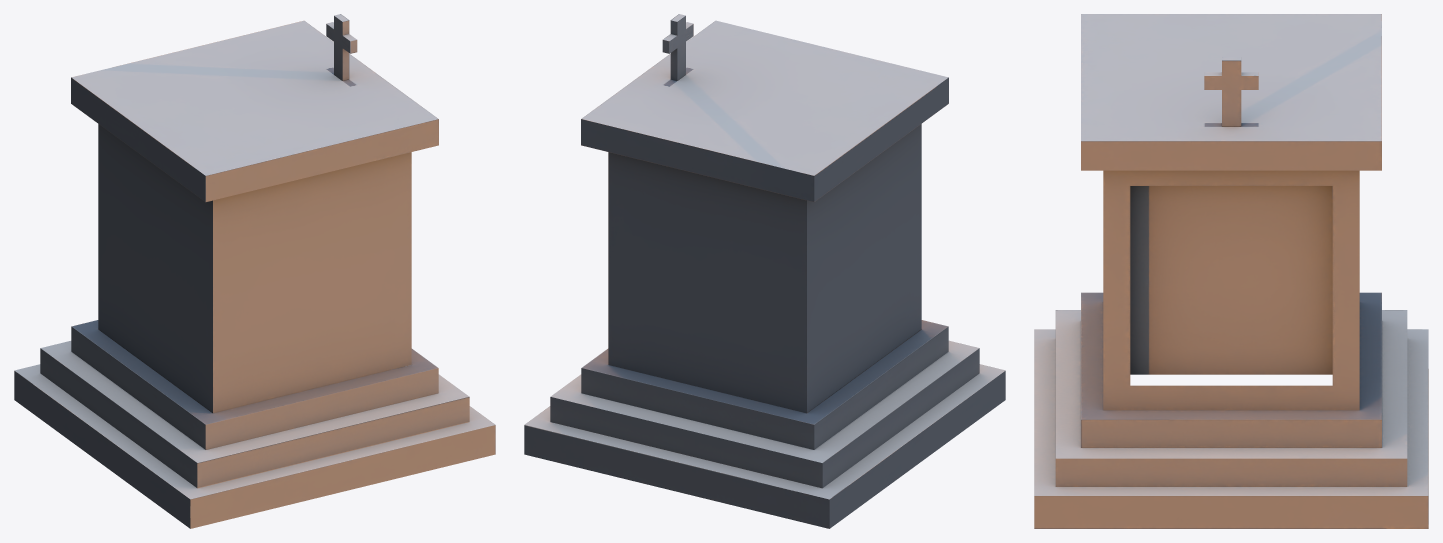
File: 04mid.glb
The picture shows the model from 3 angles, left to right: view 1: azimuth 30°, elevation 25°; view 2: azimuth 150°, elevation 25°; view 3: azimuth 270°, elevation 25°; orthographic projection. The views are drawn at different scales.
Visible parts, largest first — view 1: Tombe 4 mid; view 2: Tombe 4 mid; view 3: Tombe 4 mid.
Part boxes in pixels (bbox=[...]): Tombe 4 mid: bbox=[14, 14, 495, 528]; Tombe 4 mid: bbox=[524, 14, 1005, 528]; Tombe 4 mid: bbox=[1034, 14, 1428, 528].
Size of the model in its own units: 3.07 by 3.73 by 3.07.
Materials: 1 (1 with a texture image).
